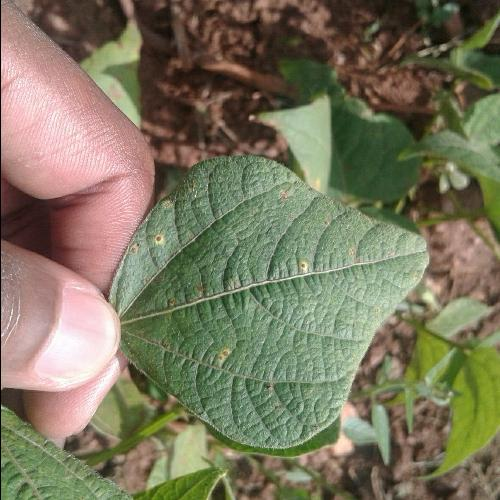mozaik: (165, 151, 374, 405)
